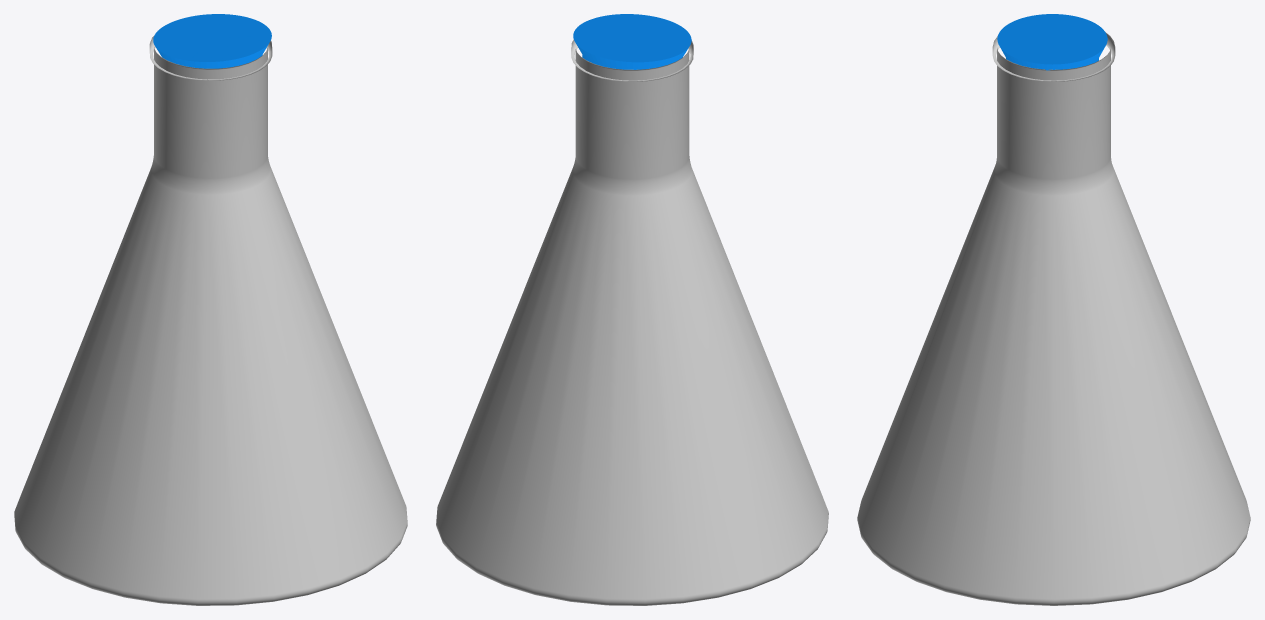
Rendered from eFlaskNov20.glb.
3 renders of one model, left to right at view 1: azimuth 30°, elevation 25°; view 2: azimuth 150°, elevation 25°; view 3: azimuth 270°, elevation 25°, orthographic.
Visible parts, largest first — view 1: Cylinder.001, Sphere.002; view 2: Cylinder.001, Sphere.002; view 3: Cylinder.001, Sphere.002.
Boxes of the visible parts, box(x1,y1,x2,y2) form: Cylinder.001: box(14, 36, 407, 605); Sphere.002: box(153, 14, 271, 68); Cylinder.001: box(436, 39, 828, 605); Sphere.002: box(573, 14, 691, 69); Cylinder.001: box(857, 32, 1250, 605); Sphere.002: box(997, 14, 1107, 70).
Bounding box in the file's own units: 1.97 × 2.69 × 1.97.
